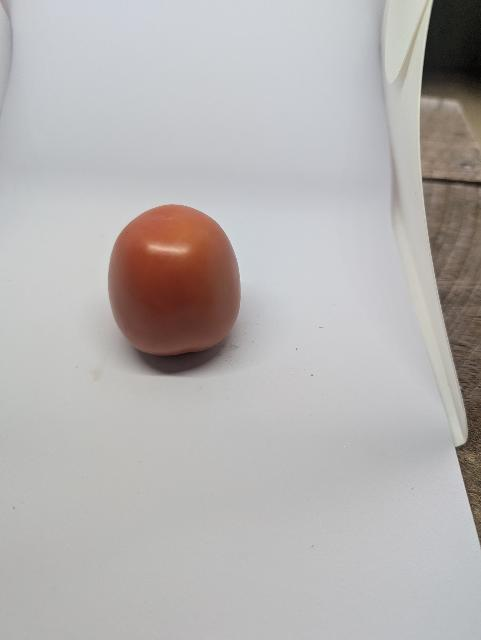red: (96, 198, 250, 369)
